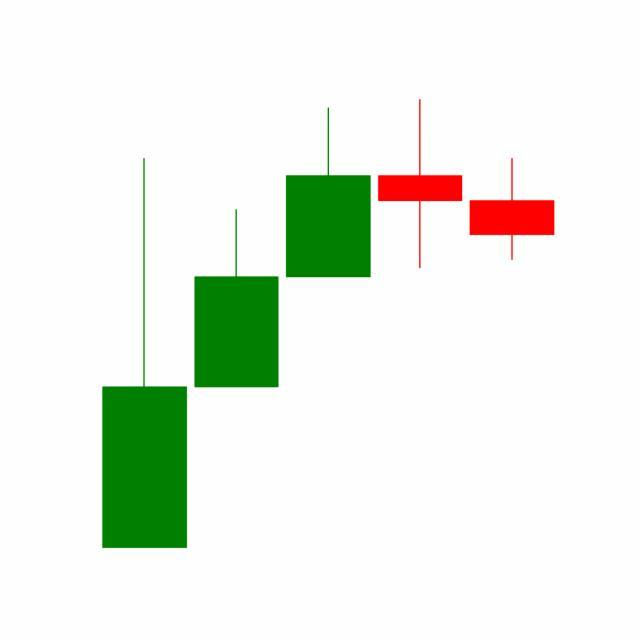Spinning Top: (374, 98, 468, 272)
